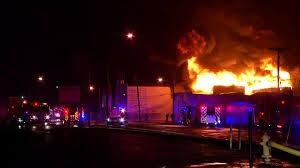fire: (186, 55, 295, 91)
